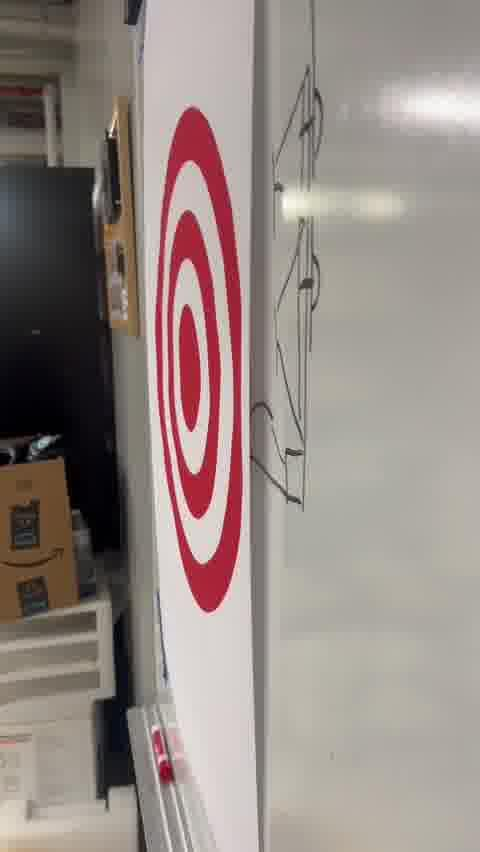target_red: (153, 107, 242, 610)
